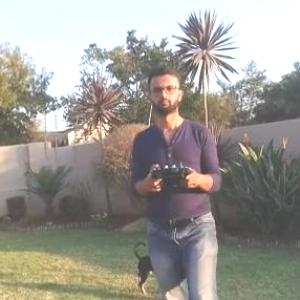follow: (132, 63, 228, 299)
